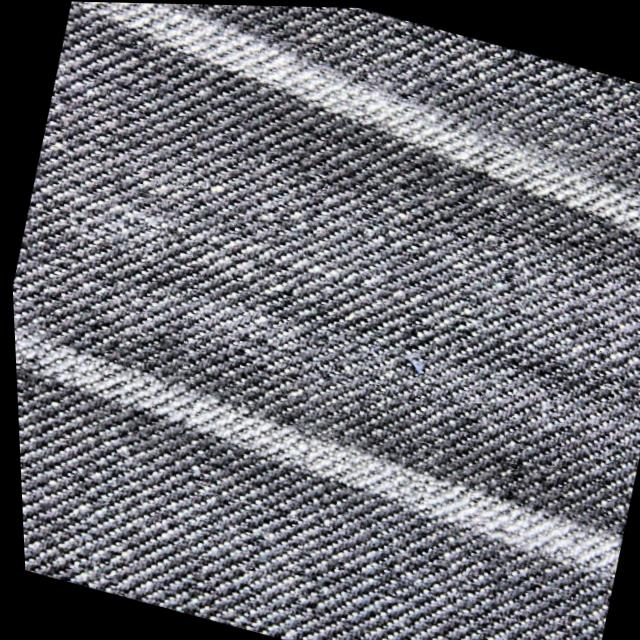Hole: (401, 355, 422, 373)
